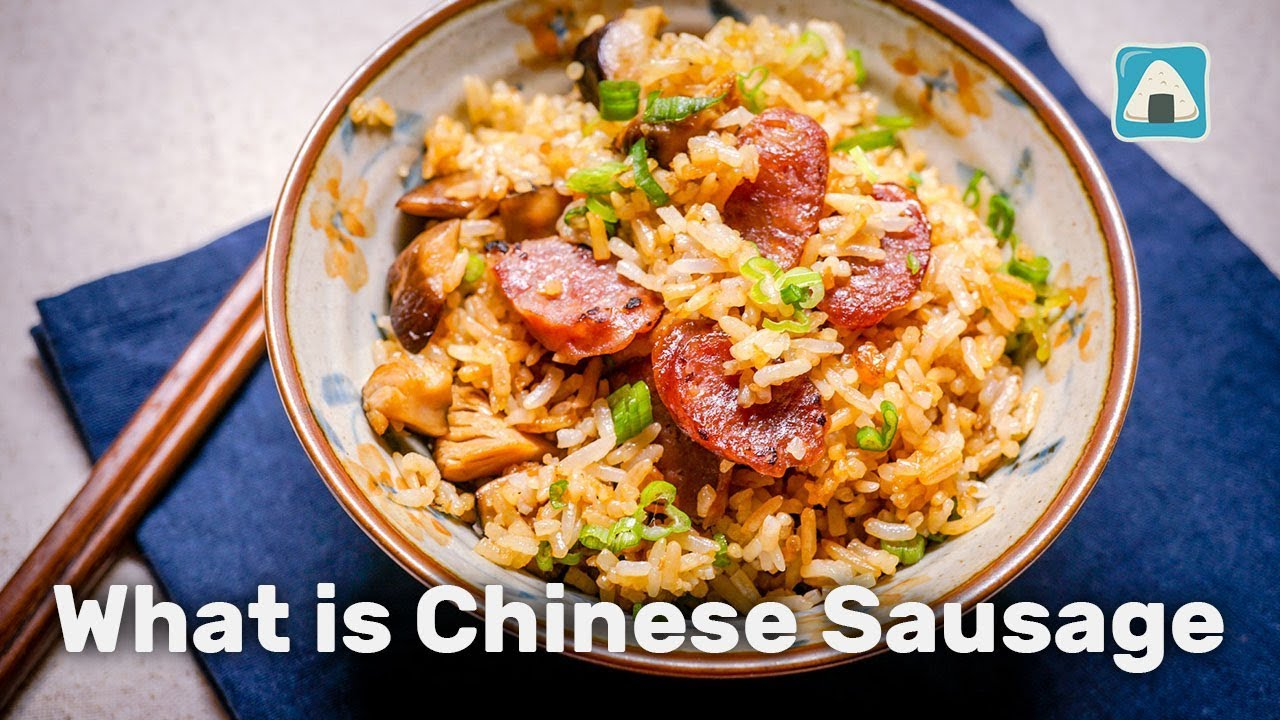chinese_sausage: (660, 321, 799, 456), (511, 242, 674, 349), (721, 120, 832, 254), (829, 203, 922, 330)
